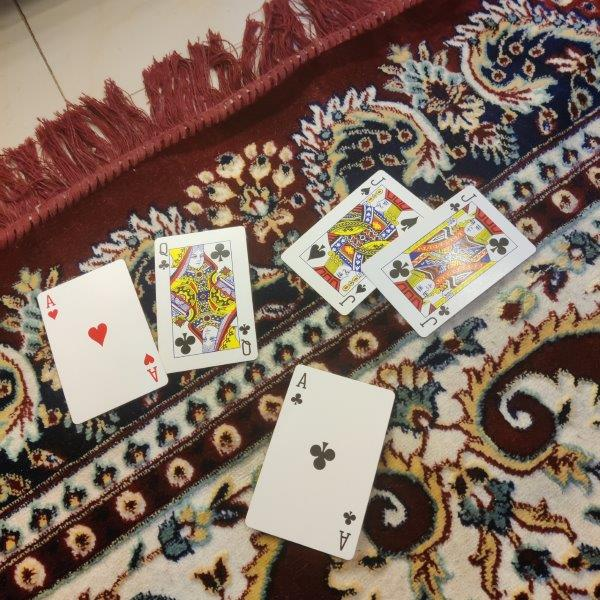Ace of Clubs: (245, 364, 396, 560)
Ace of Hearts: (36, 258, 169, 424)
Jack of Clubs: (360, 185, 538, 340)
Jack of Spades: (280, 170, 436, 316)
Queen of Clubs: (154, 226, 259, 376)
